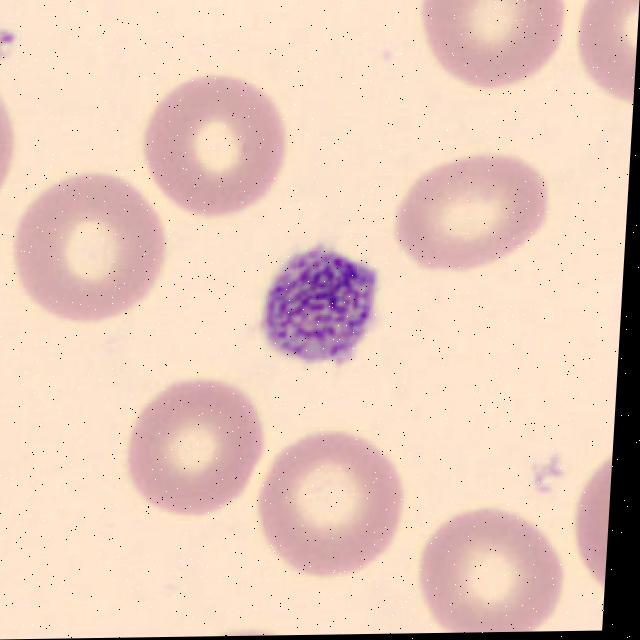platelets: (257, 253, 378, 368)
rbc: (4, 175, 167, 329), (254, 433, 420, 582), (388, 149, 565, 286), (117, 372, 275, 517), (142, 81, 297, 220), (411, 502, 570, 633), (415, 0, 568, 105), (563, 434, 614, 613), (572, 0, 640, 113), (0, 82, 33, 223), (168, 614, 323, 637)
